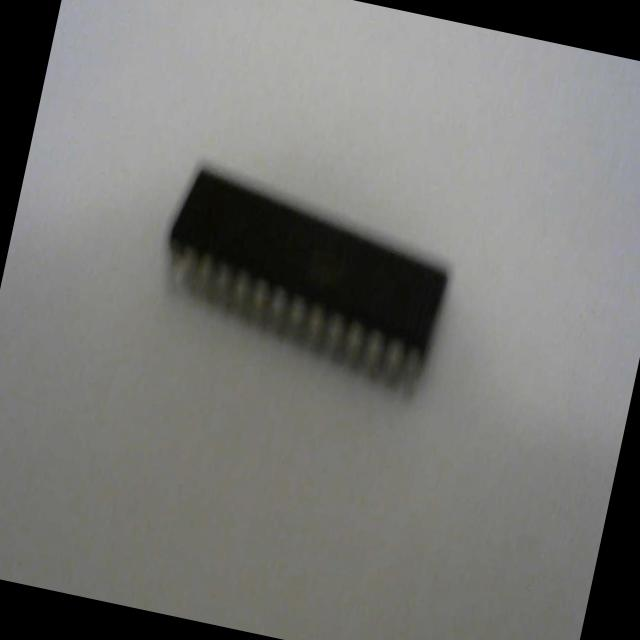atmega: (142, 153, 464, 404)
